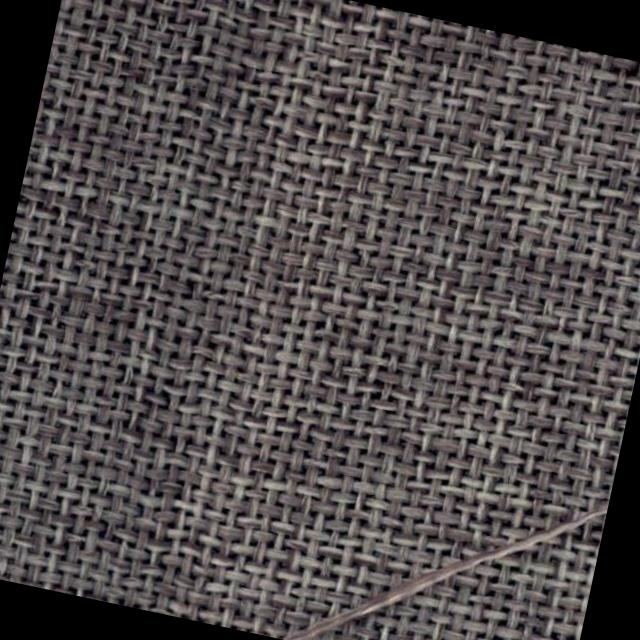Thread: (274, 437, 609, 640)
